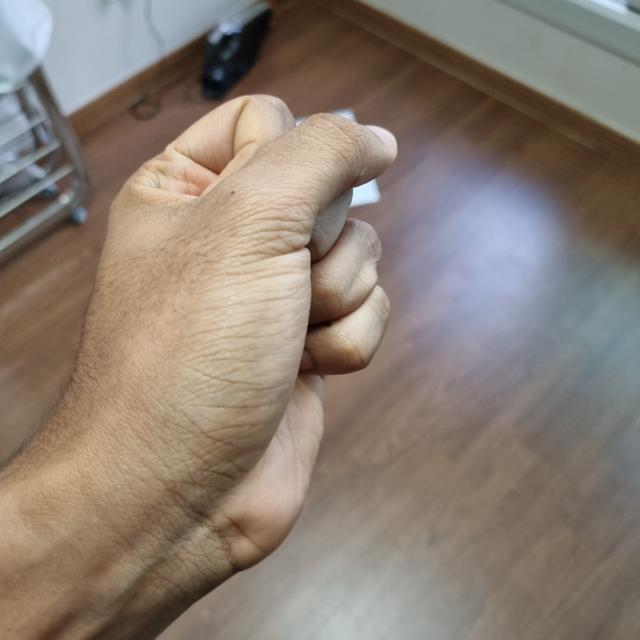Rock: (65, 102, 391, 551)
